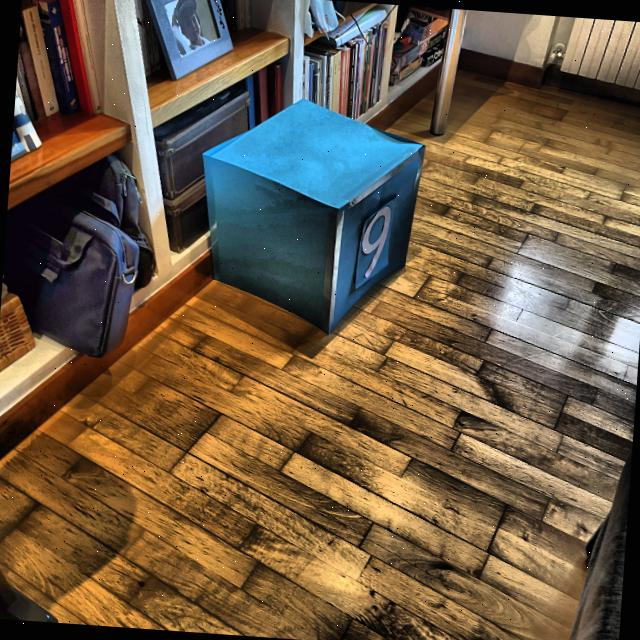blue box: (194, 94, 420, 342)
nine: (358, 203, 394, 281)
